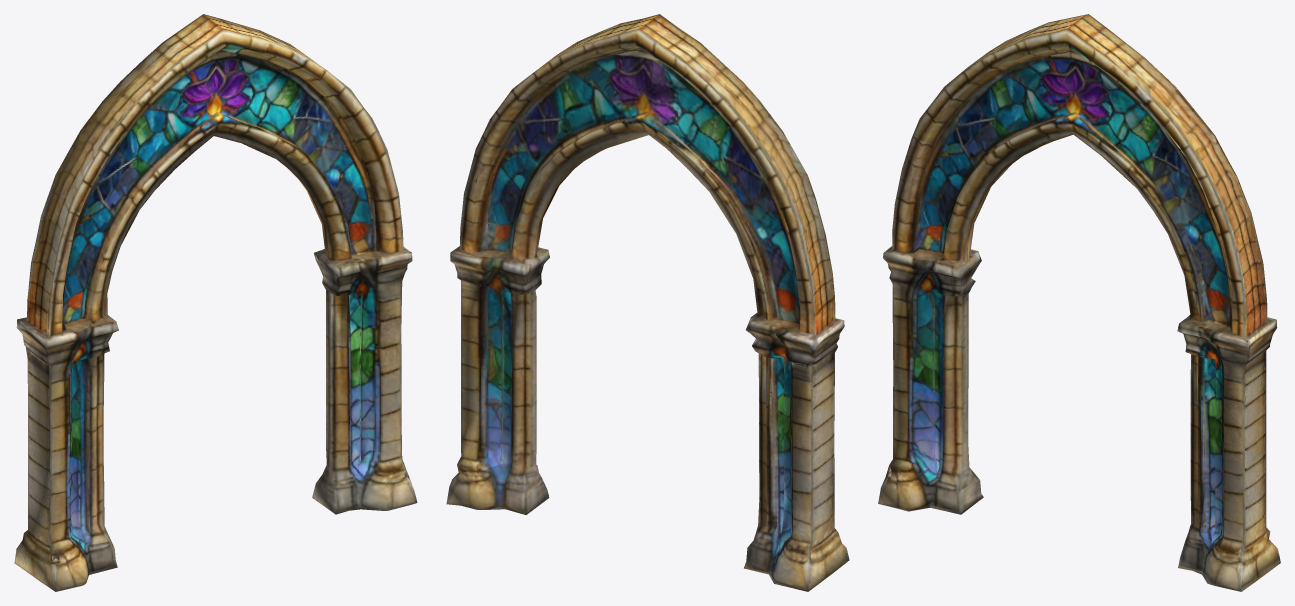
File: testGlassArchway.glb
3 renders of one model, left to right at view 1: azimuth 30°, elevation 25°; view 2: azimuth 150°, elevation 25°; view 3: azimuth 330°, elevation 25°, orthographic.
Parts seen in each view (by area): view 1: Mesh_0; view 2: Mesh_0; view 3: Mesh_0.
Part boxes in pixels (<box>): Mesh_0: <box>14,14,417,591</box>; Mesh_0: <box>446,14,849,591</box>; Mesh_0: <box>878,14,1280,591</box>.
Size of the model in its own units: 1.49 by 2 by 0.2972.
1 material, 1 textured.
